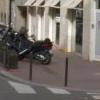Motorcycle: (11, 25, 58, 68)
